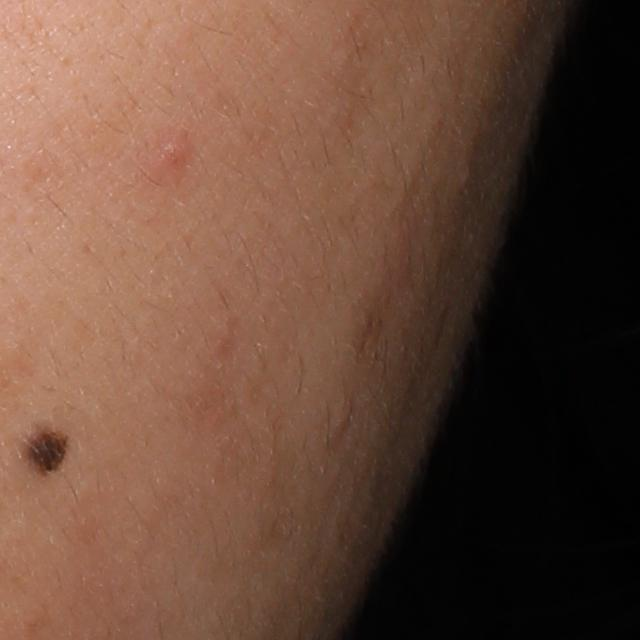nevus: (13, 408, 73, 478)
papule: (143, 130, 197, 176)
